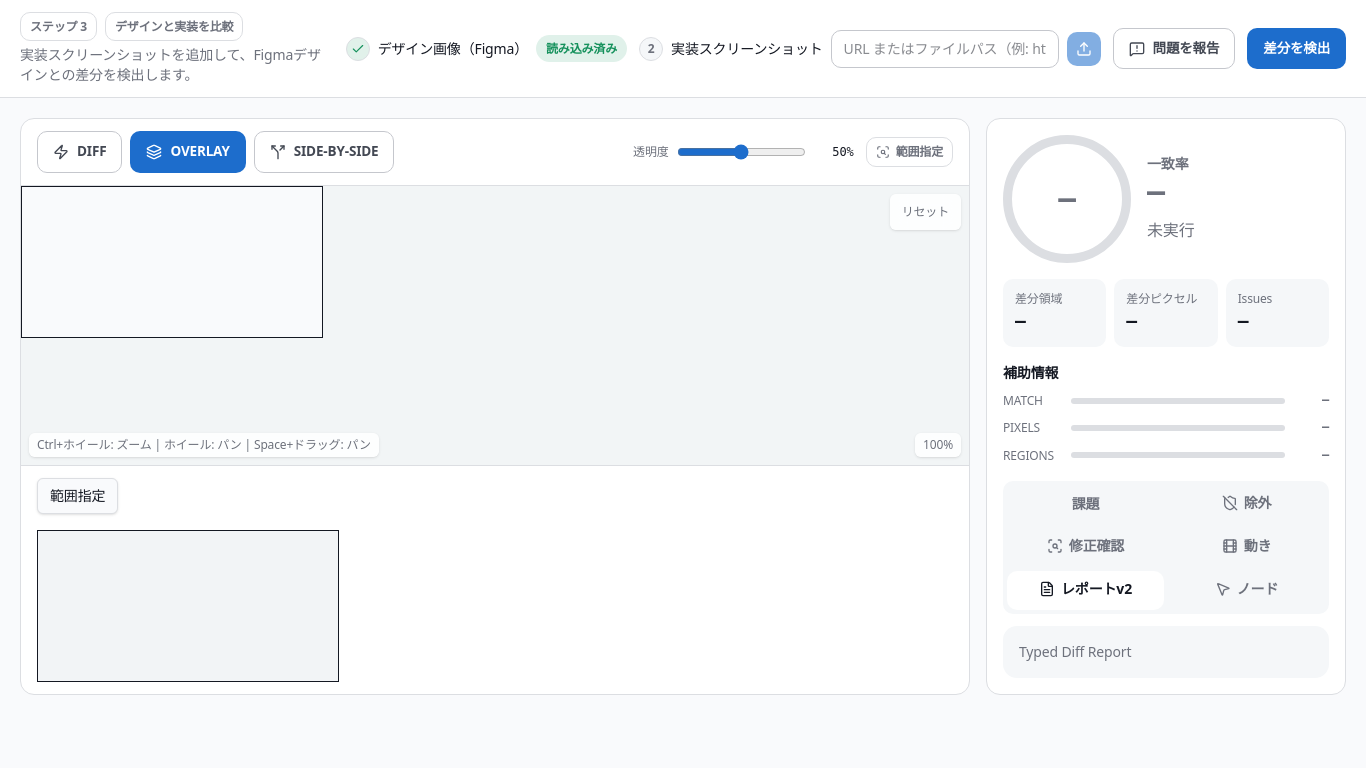
ComparePage › 読み込み済み画像を変更するとスクリーンショットをクリアする
Type "/screenshot.png" into the field with placeholder "URL またはファイルパス（例: http://localhost:3000）" at (945, 49), box x1=831 y1=30 x2=1059 y2=68
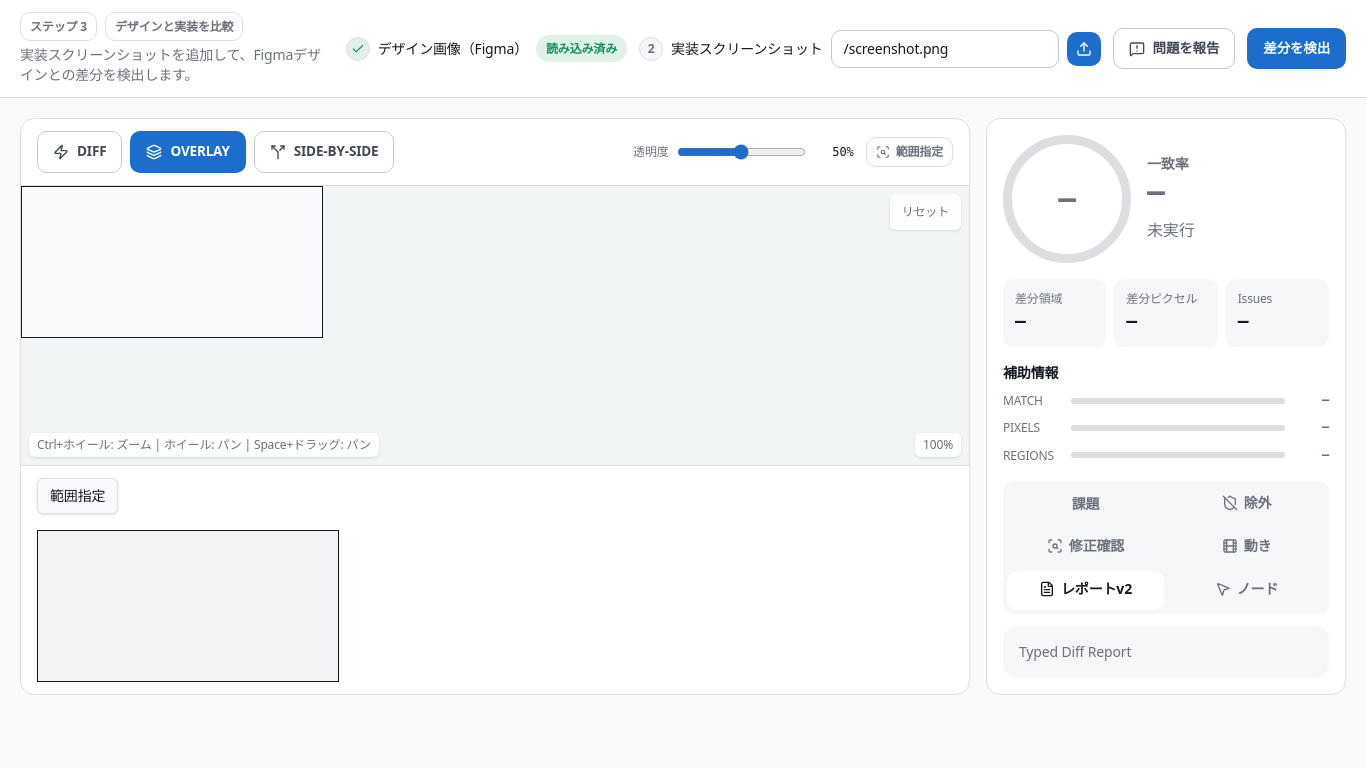
Click the button named "実装スクリーンショット" at (1084, 49), box x1=1067 y1=32 x2=1101 y2=66
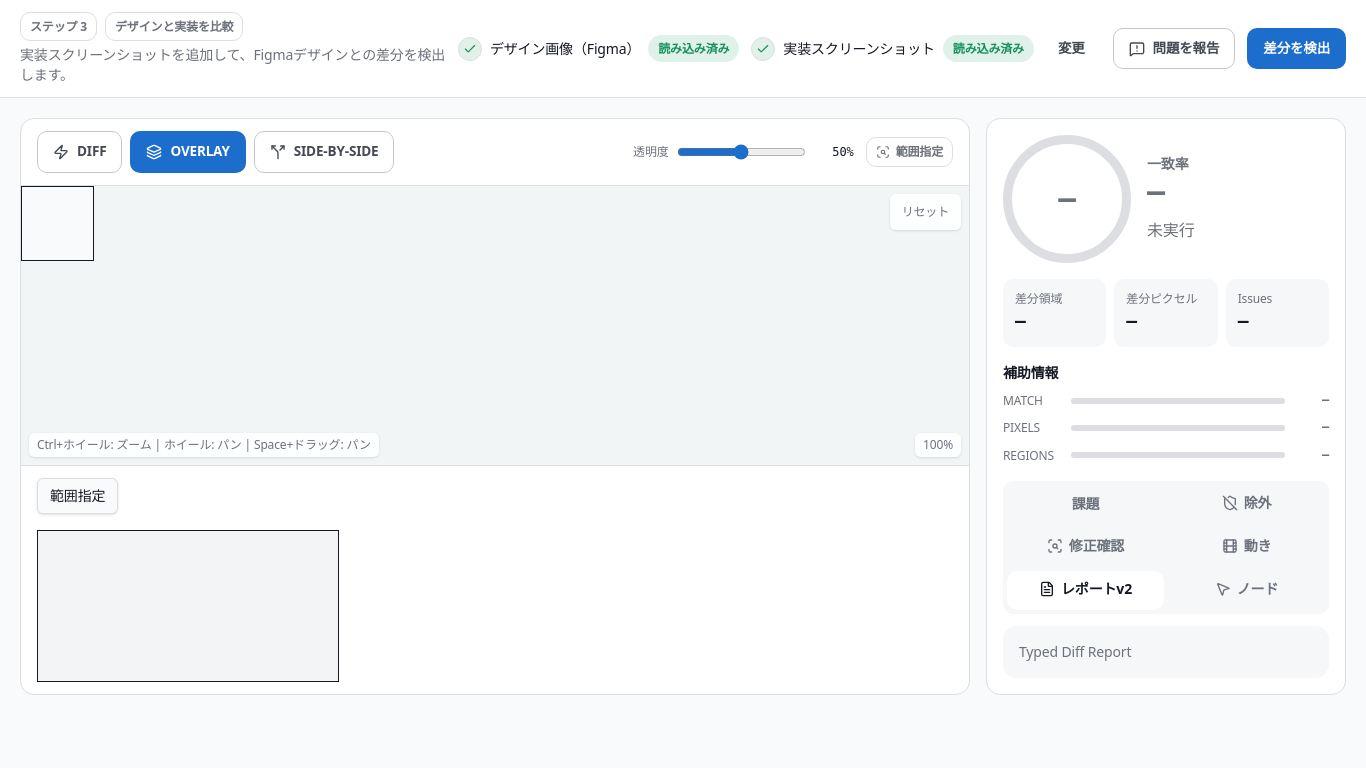
Expected: the text "読み込み済み" next to "デザイン画像（Figma）" is shown, x1=658 y1=40 x2=729 y2=57
Click the button "変更" at (1071, 49), box x1=1042 y1=28 x2=1101 y2=69
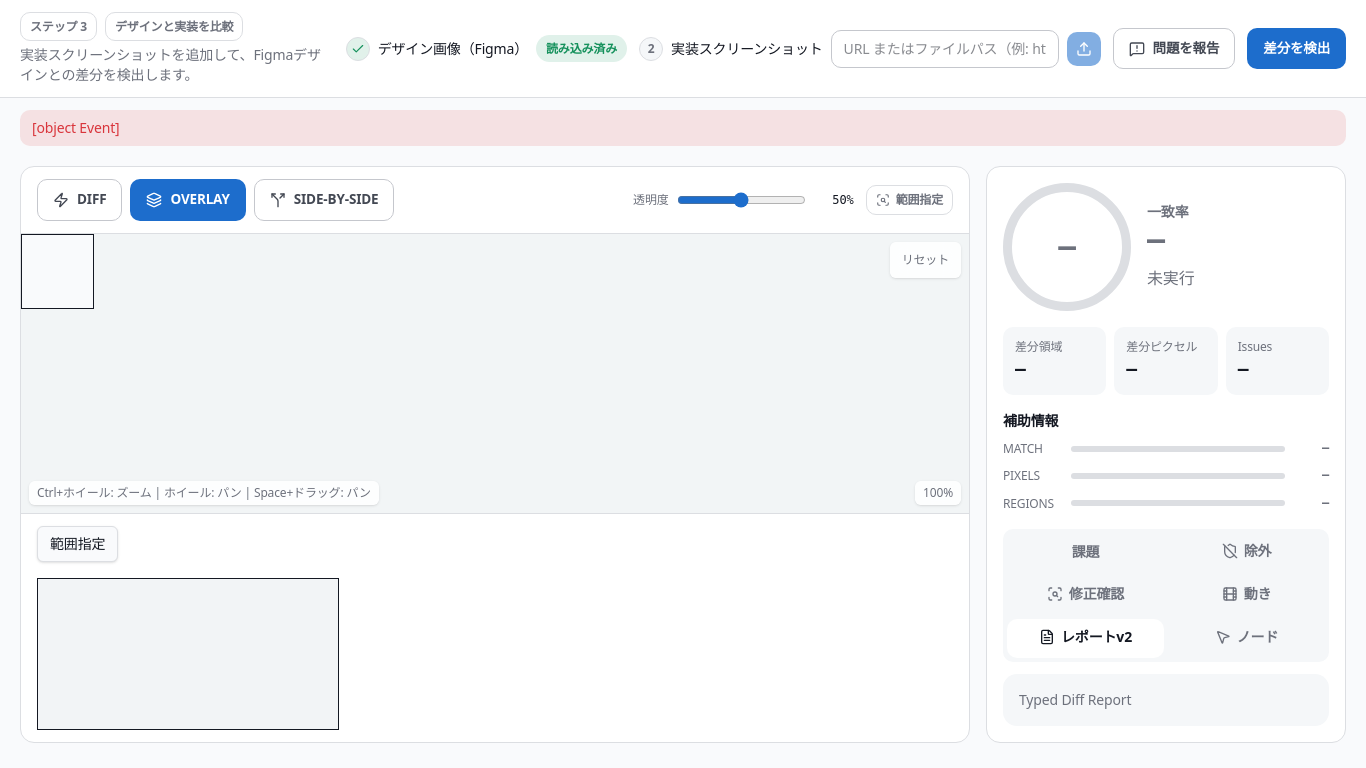
Expected: the field with placeholder "URL またはファイルパス（例: http://localhost:3000）" is shown, x1=831 y1=30 x2=1059 y2=68
